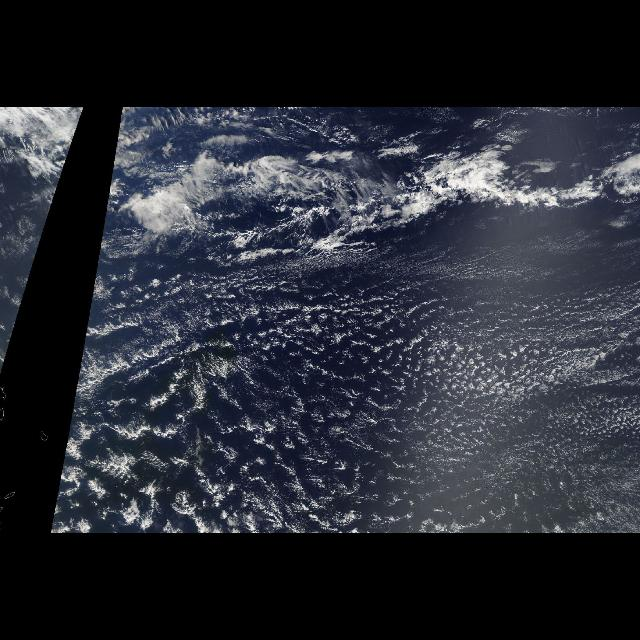Fish: (142, 149, 632, 249)
Flower: (84, 370, 306, 500)
Gravel: (124, 415, 342, 533)
Sugar: (301, 266, 639, 534)
